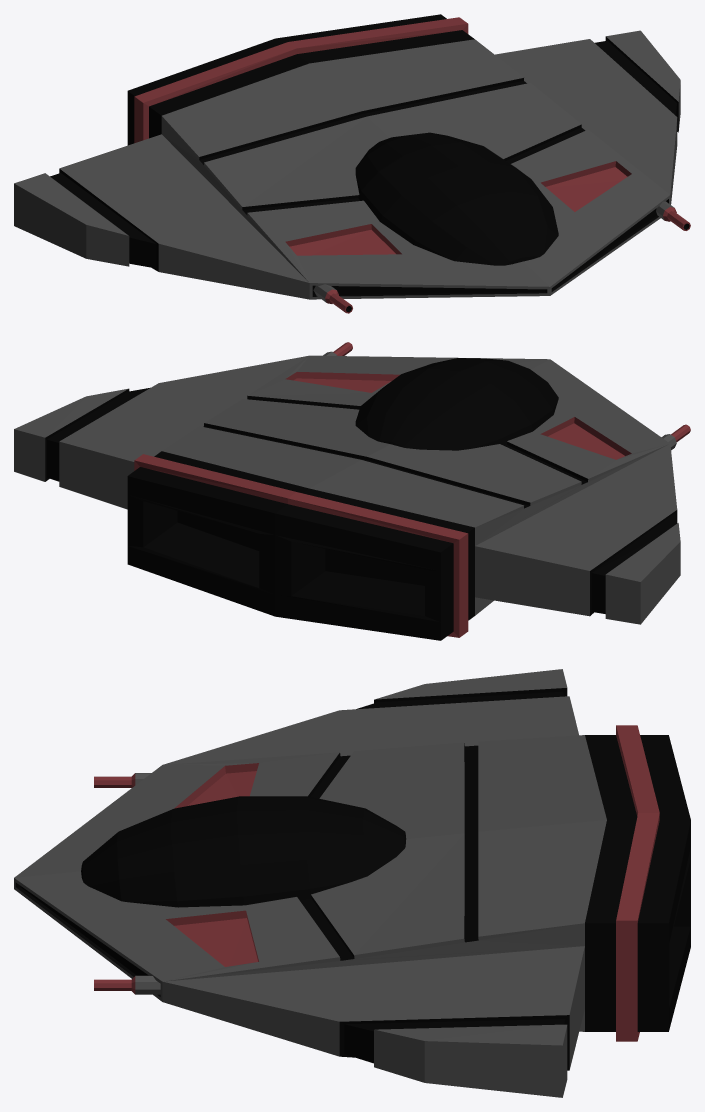
Rendered from Spaceship2_2.fbx.
3 views of the same model, one above another, from view 1: azimuth 30°, elevation 25°; view 2: azimuth 150°, elevation 25°; view 3: azimuth 270°, elevation 25° (orthographic). The views are drawn at different scales.
Parts seen in each view (by area): view 1: Spaceship2_2; view 2: Spaceship2_2; view 3: Spaceship2_2.
Boxes of the visible parts, x1,y1,x2,y2 form: Spaceship2_2: [14, 14, 690, 313]; Spaceship2_2: [14, 342, 690, 640]; Spaceship2_2: [14, 669, 690, 1097].
Bounding box in the file's own units: 977 × 174 × 742.
